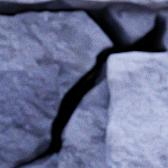brick: (104, 53, 167, 167), (65, 0, 167, 9), (0, 0, 54, 3)
broken_brick: (0, 66, 60, 167)
crack: (0, 0, 167, 165)
